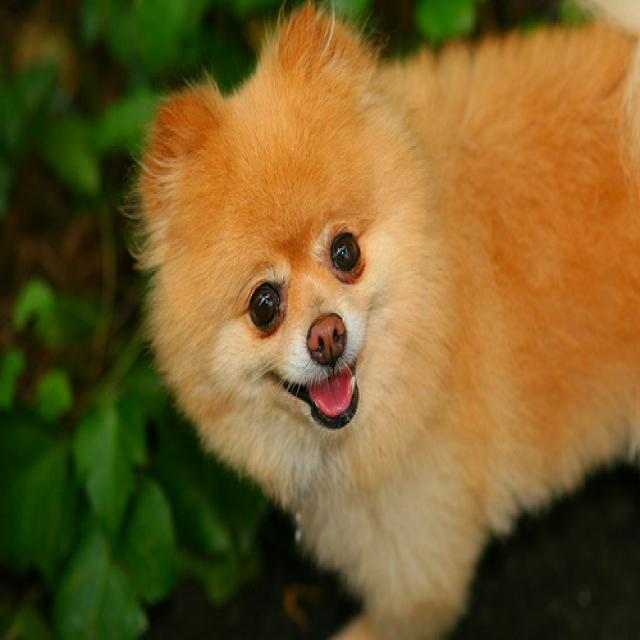dog-pomeranian: (116, 2, 637, 636)
